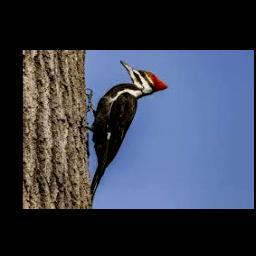Woodpecker: (85, 60, 168, 204)
